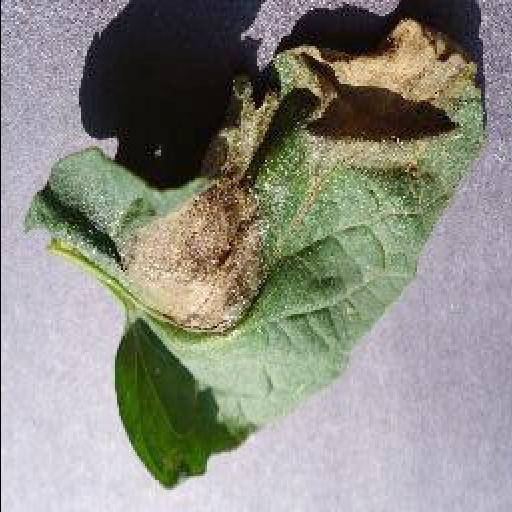disease_tomato: (22, 19, 492, 489)
